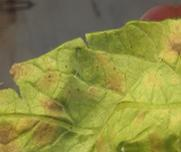Tomato mold leaf: (0, 6, 181, 152)
